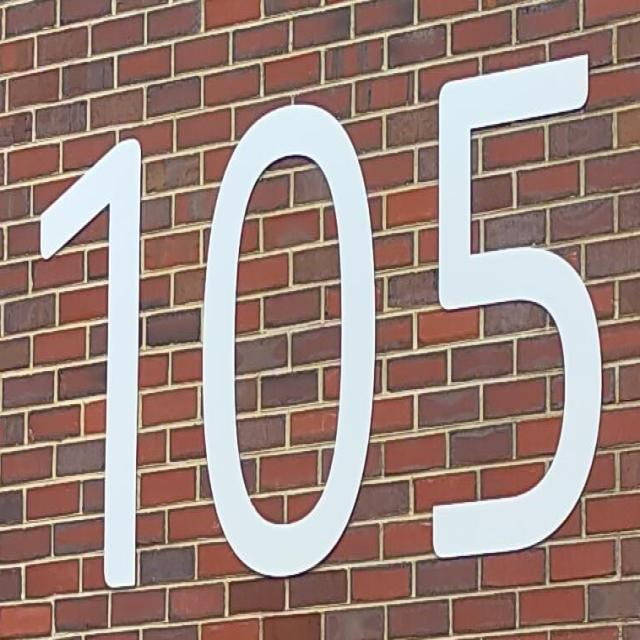character: (428, 42, 608, 574), (197, 92, 381, 589), (33, 131, 151, 598)
